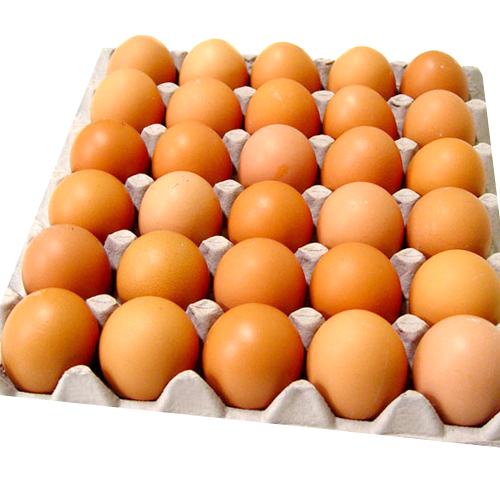egg: (2, 34, 500, 430)
